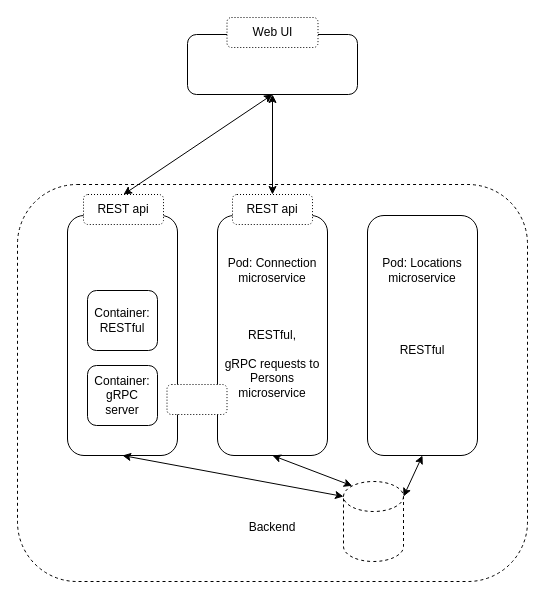
Image size: 545x599. Some labels were removed from this diagram. The shapes that lost their labels are listed below. From the top down, each one's box as (x1, y1, x2, y2) in pixels, then its label:
(186, 34, 358, 94): Pod: Frontend
(66, 214, 178, 456): Pod: Persons microservice
(166, 384, 227, 414): gRPC
(342, 480, 404, 562): Postgres
